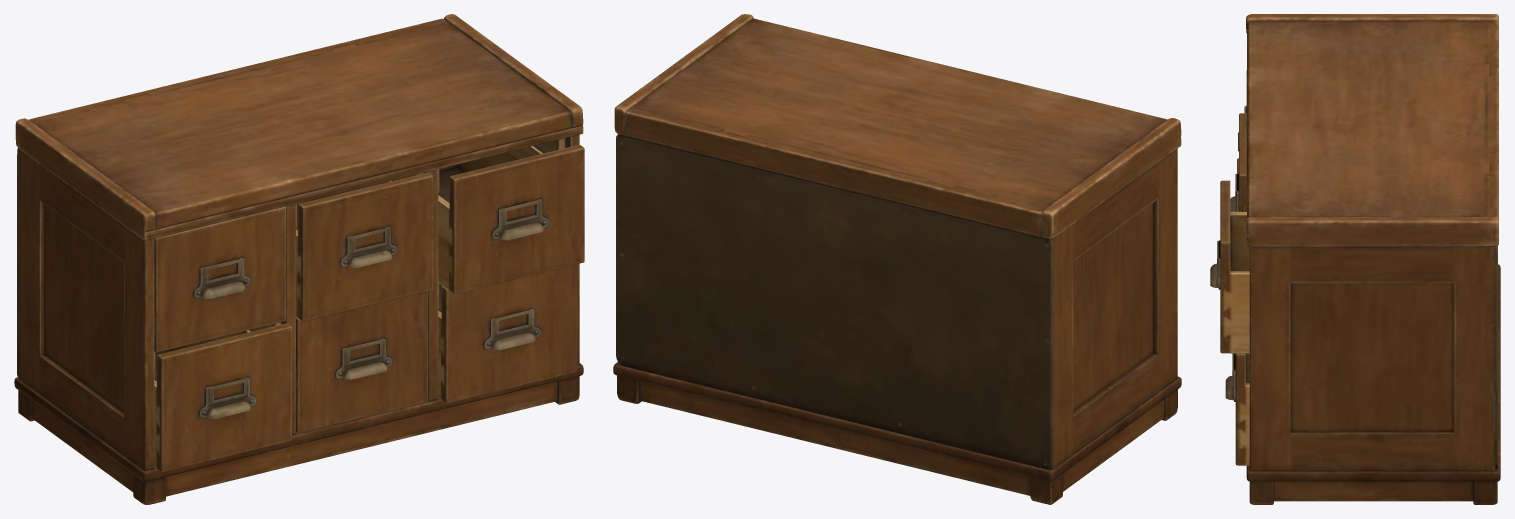
The model's file is vintage_wooden_drawer_01.glb.
3 renders of one model, left to right at view 1: azimuth 30°, elevation 25°; view 2: azimuth 150°, elevation 25°; view 3: azimuth 270°, elevation 25°, orthographic. The views are drawn at different scales.
Visible parts, largest first — view 1: vintage_wooden_drawer_01_body; view 2: vintage_wooden_drawer_01_body; view 3: vintage_wooden_drawer_01_body.
Boxes of the visible parts, <box> form: vintage_wooden_drawer_01_body: <box>14,14,584,504</box>; vintage_wooden_drawer_01_body: <box>613,14,1181,504</box>; vintage_wooden_drawer_01_body: <box>1210,14,1500,504</box>.
Size of the model in its own units: 1.72 by 1.09 by 1.01.
Materials: 1 (1 with a texture image).
